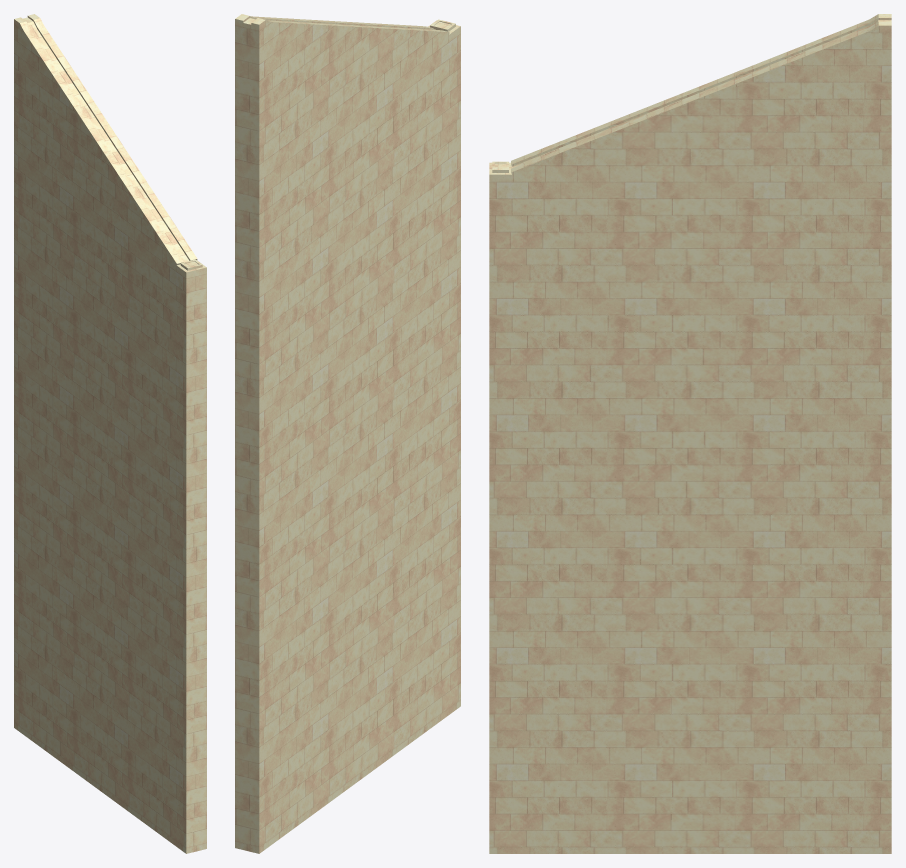
The model's file is Sm_guardrail_02.glb.
3 views of the same model, side by side, from view 1: azimuth 30°, elevation 25°; view 2: azimuth 150°, elevation 25°; view 3: azimuth 270°, elevation 25° (orthographic). The views are drawn at different scales.
Visible parts, largest first — view 1: Sm_guardrail_02; view 2: Sm_guardrail_02; view 3: Sm_guardrail_02.
Boxes of the visible parts, x1,y1,x2,y2 form: Sm_guardrail_02: [14, 14, 206, 853]; Sm_guardrail_02: [235, 14, 460, 853]; Sm_guardrail_02: [489, 14, 891, 853].
Bounding box in the file's own units: 0.8682 × 28.49 × 12.55.
1 material, 1 textured.
